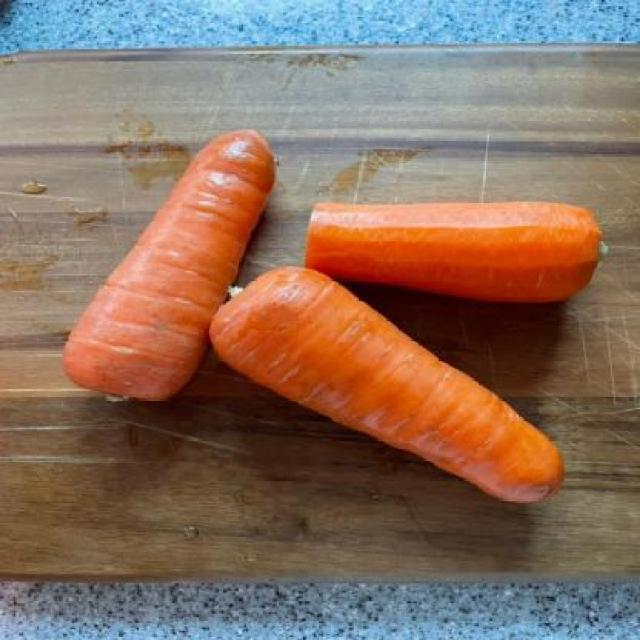carrot: (210, 266, 564, 502), (64, 130, 275, 401), (305, 202, 601, 302)
